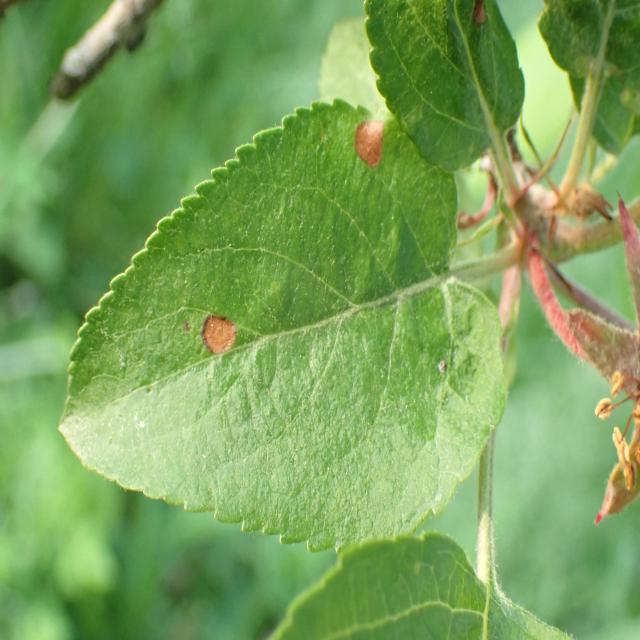Black Rot: (171, 282, 261, 391), (347, 105, 400, 221), (465, 0, 498, 58)
